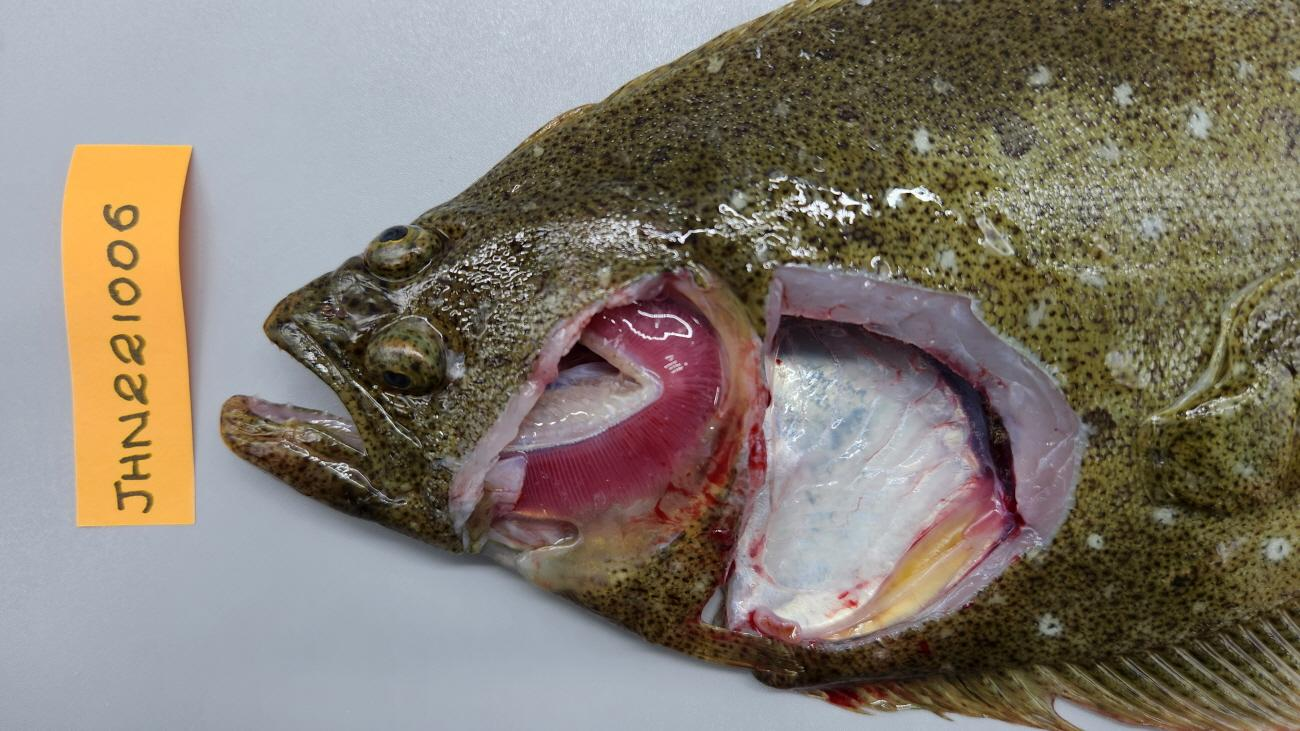POASN: (729, 320, 987, 634)
